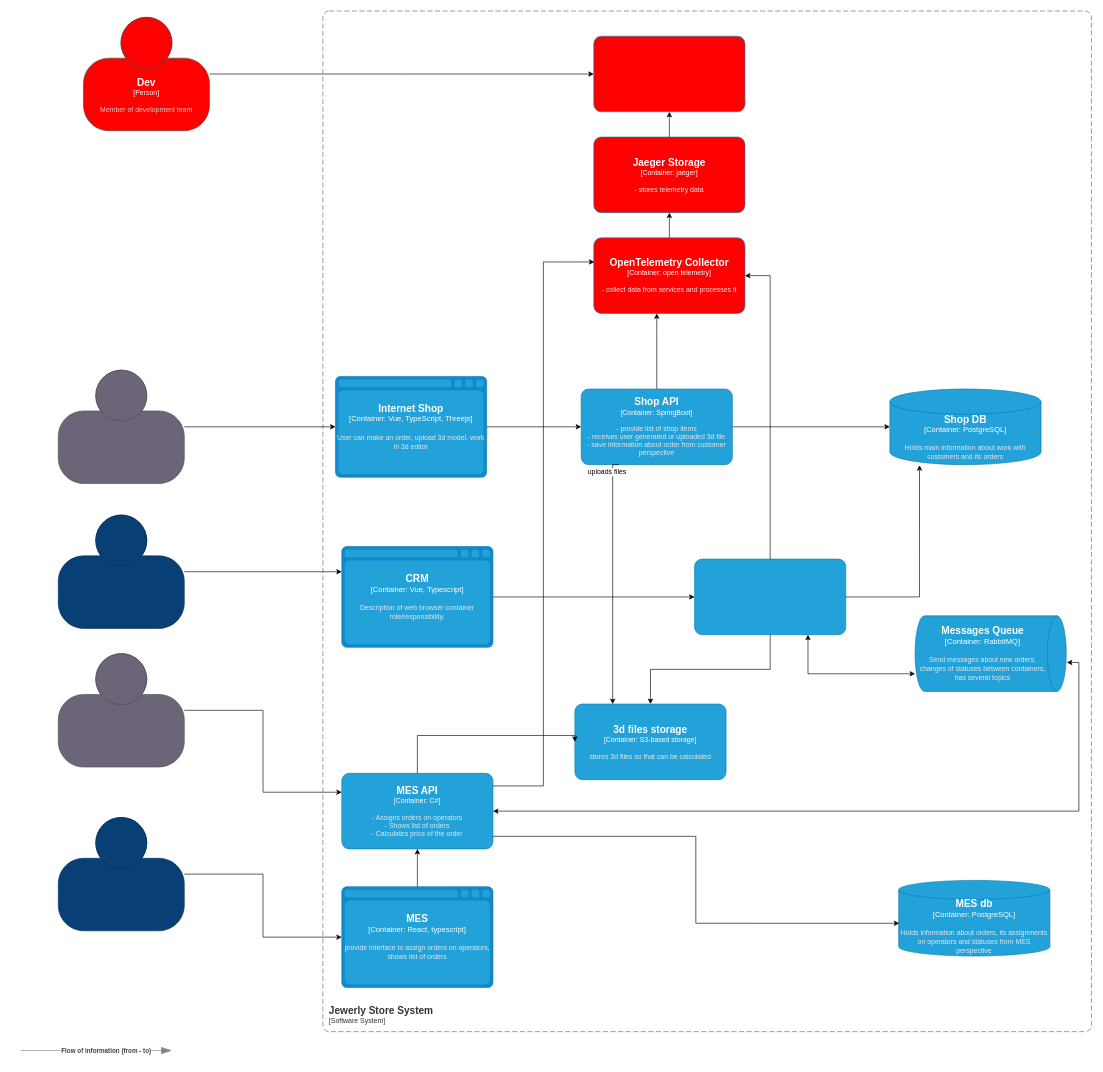
This 1103x1072 diagram has some shape labels left out. Each missing label, with the centre of its shape:
"API user [Person] Description of external person." goes at (121,710).
"CRM API [Container: SpringBoot] Description of container role/responsibility." goes at (770,596).
"Customer [Person] Description of external person." goes at (121,426).
"Jaeger Tracing Ui [Container: jaeger] - shows tracing" goes at (669,74).
"Operator [Person] Takes order in work, manufactures jewerly" goes at (121,874).
"Seller [Person] Operates with order, confirms manufacturing for the user" goes at (121,571).
